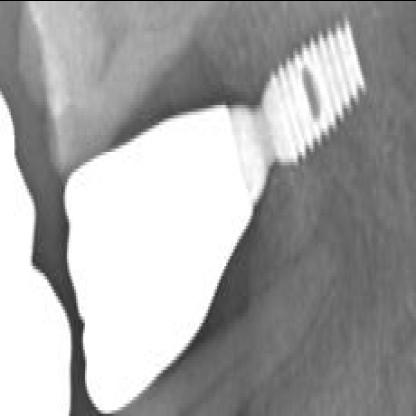Bicon: (260, 20, 366, 170)
